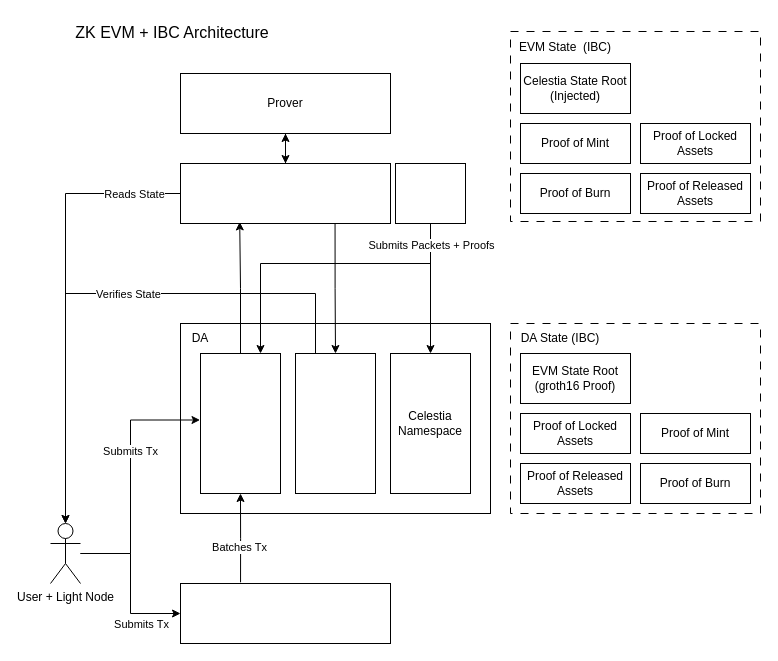
Some shapes in this 778 by 661 pixel diagram are drawn without their labels. Each missing label, with the centre of its shape:
"Executor" goes at (x=285, y=193).
"Relayer" goes at (x=430, y=193).
"Sequencer" goes at (x=285, y=613).
"State + Proof Namespace" goes at (x=335, y=423).
"Tx Namespace" goes at (x=240, y=423).
